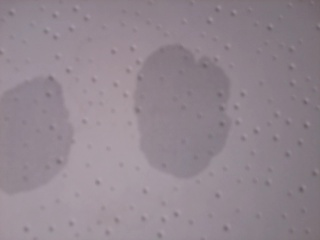Water_detected: (129, 56, 213, 163), (0, 93, 62, 183)
